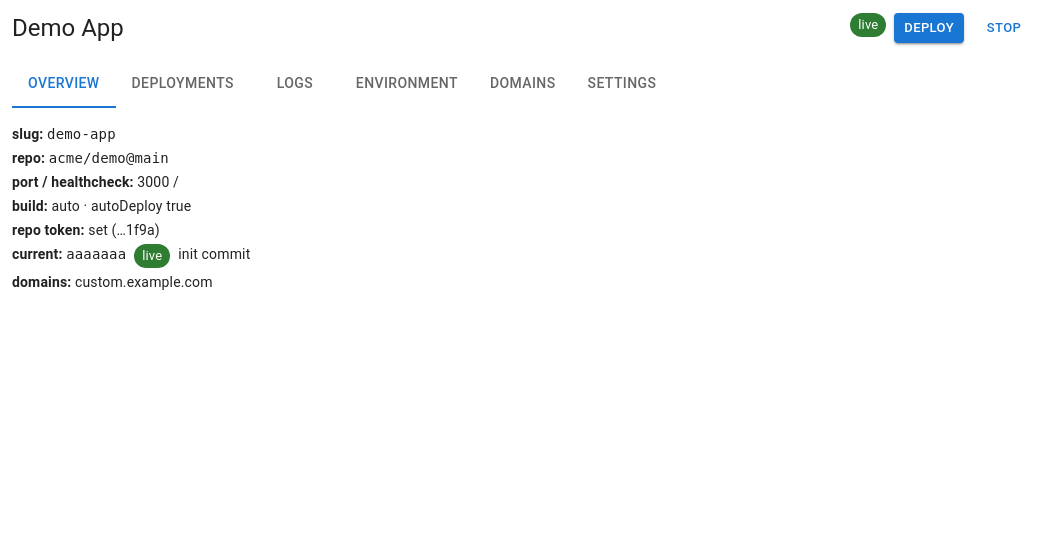
page render smokes (11 §6) › AppDetailPage renders all six tabs
Expected: the tab "Overview" is shown, [12,60,116,108]
Expected: the tab "Logs" is shown, [250,60,340,108]
Click the tab "Deployments": (183,84) [116,60,250,108]
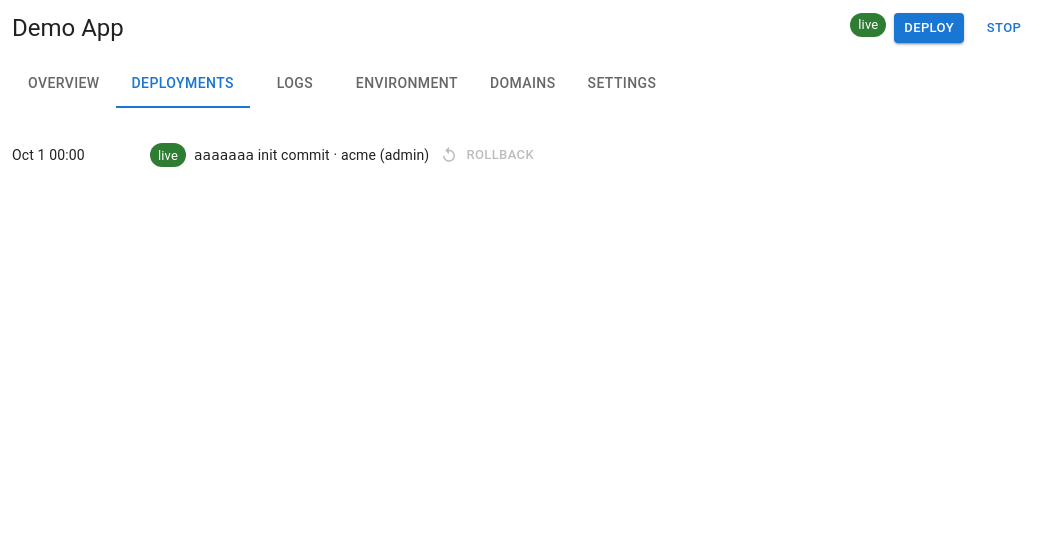
Now the text "init commit" is shown, box [258,147,330,163]
Click the tab "Environment": (407,84) [340,60,474,108]
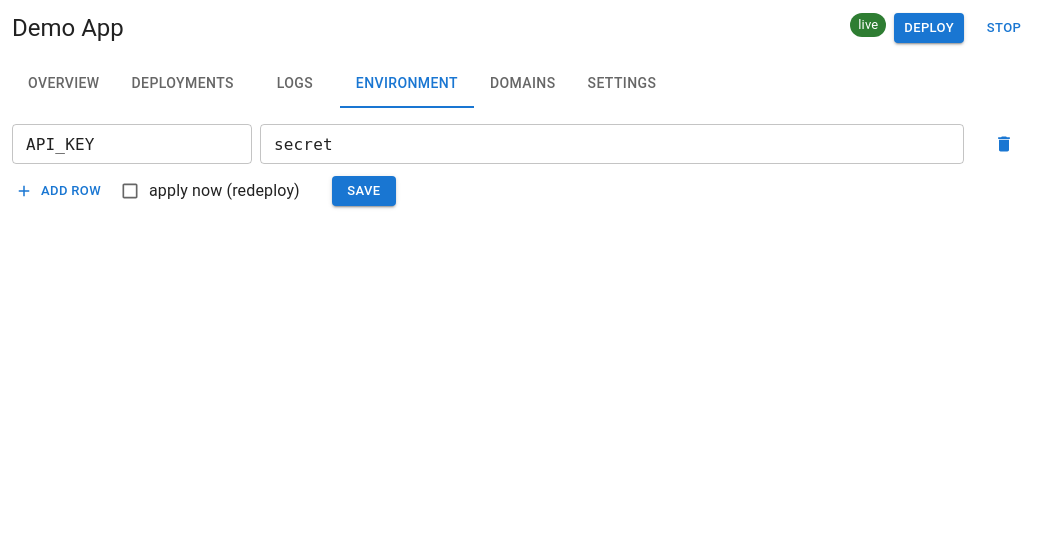
Now the 1st field showing "API_KEY" is shown, box [12,124,252,164]
Click the tab "Domains": (523,84) [474,60,572,108]
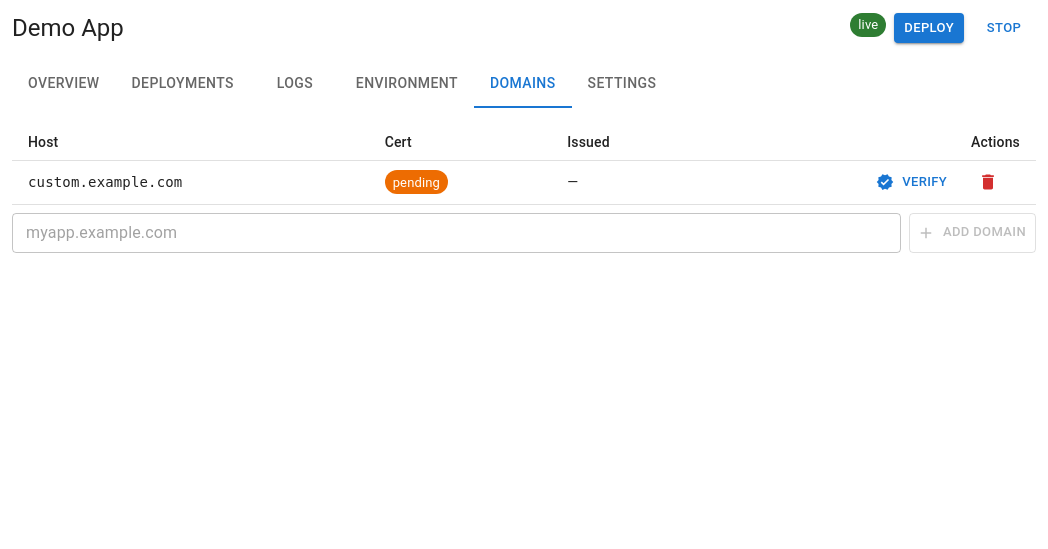
Now the text "custom.example.com" is shown, box [12,160,369,204]
Click the tab "Settings": (622,84) [572,60,672,108]
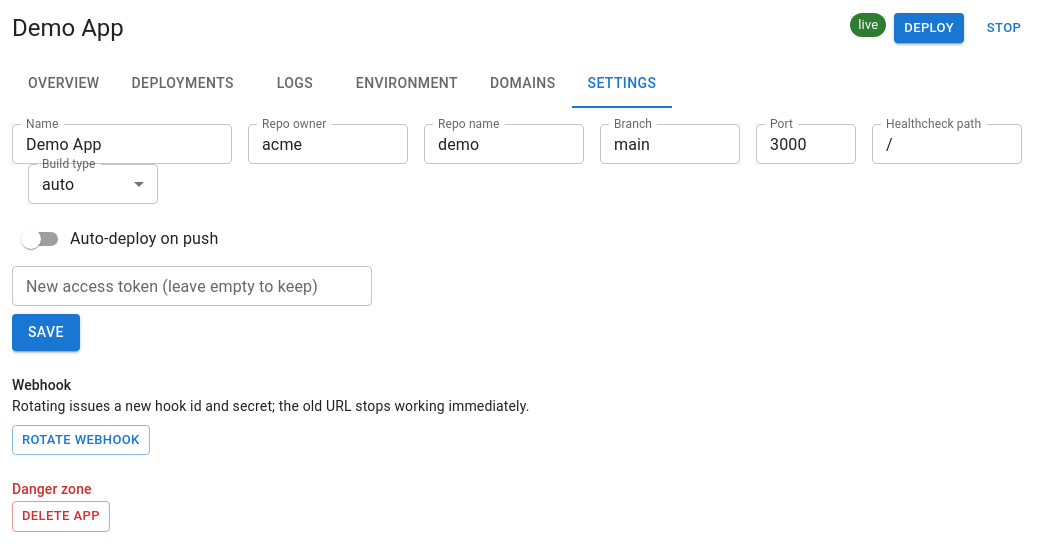
Now the heading "Danger zone" is shown, box [12,481,92,497]
